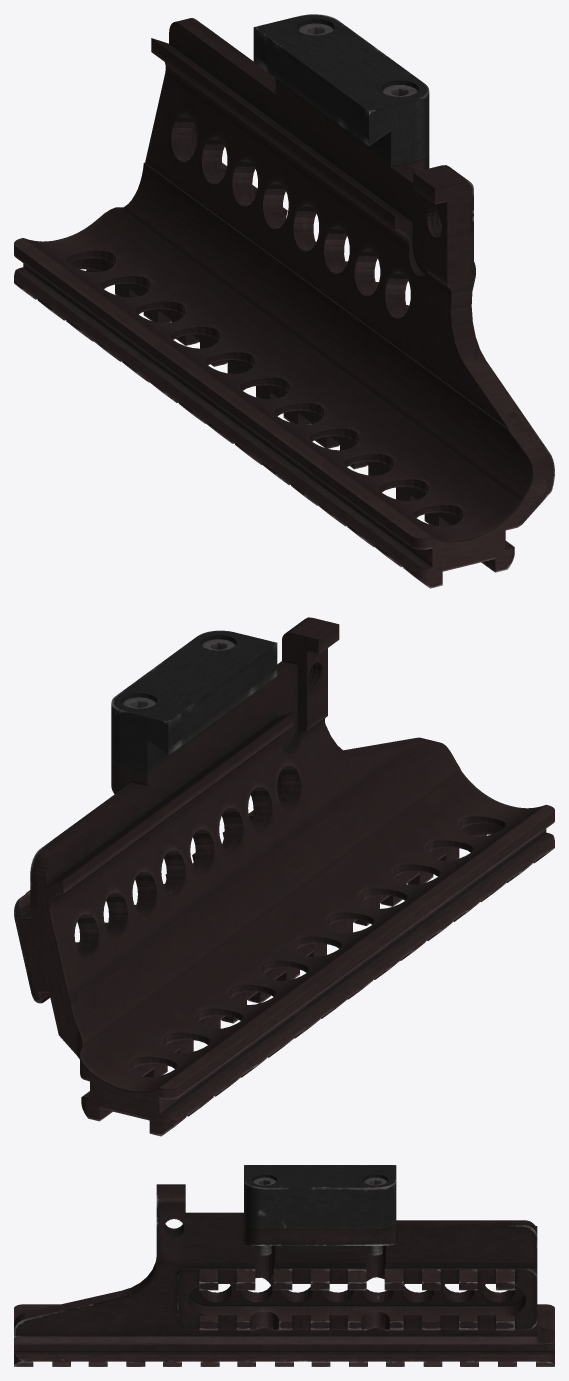
3 renders of one model, top to bottom at view 1: azimuth 30°, elevation 25°; view 2: azimuth 150°, elevation 25°; view 3: azimuth 270°, elevation 25°, orthographic. The views are drawn at different scales.
Visible parts, largest first — view 1: TW_67069cbbb29a2cd33803338c_PZ_Import; view 2: TW_67069cbbb29a2cd33803338c_PZ_Import; view 3: TW_67069cbbb29a2cd33803338c_PZ_Import.
Part boxes in pixels (x1,y1,x2,y2): TW_67069cbbb29a2cd33803338c_PZ_Import: (14,14,554,588); TW_67069cbbb29a2cd33803338c_PZ_Import: (14,617,554,1136); TW_67069cbbb29a2cd33803338c_PZ_Import: (14,1165,554,1366).
Bounding box in the file's own units: 0.0235 × 0.0851 × 0.037.
Materials: 1 (1 with a texture image).
